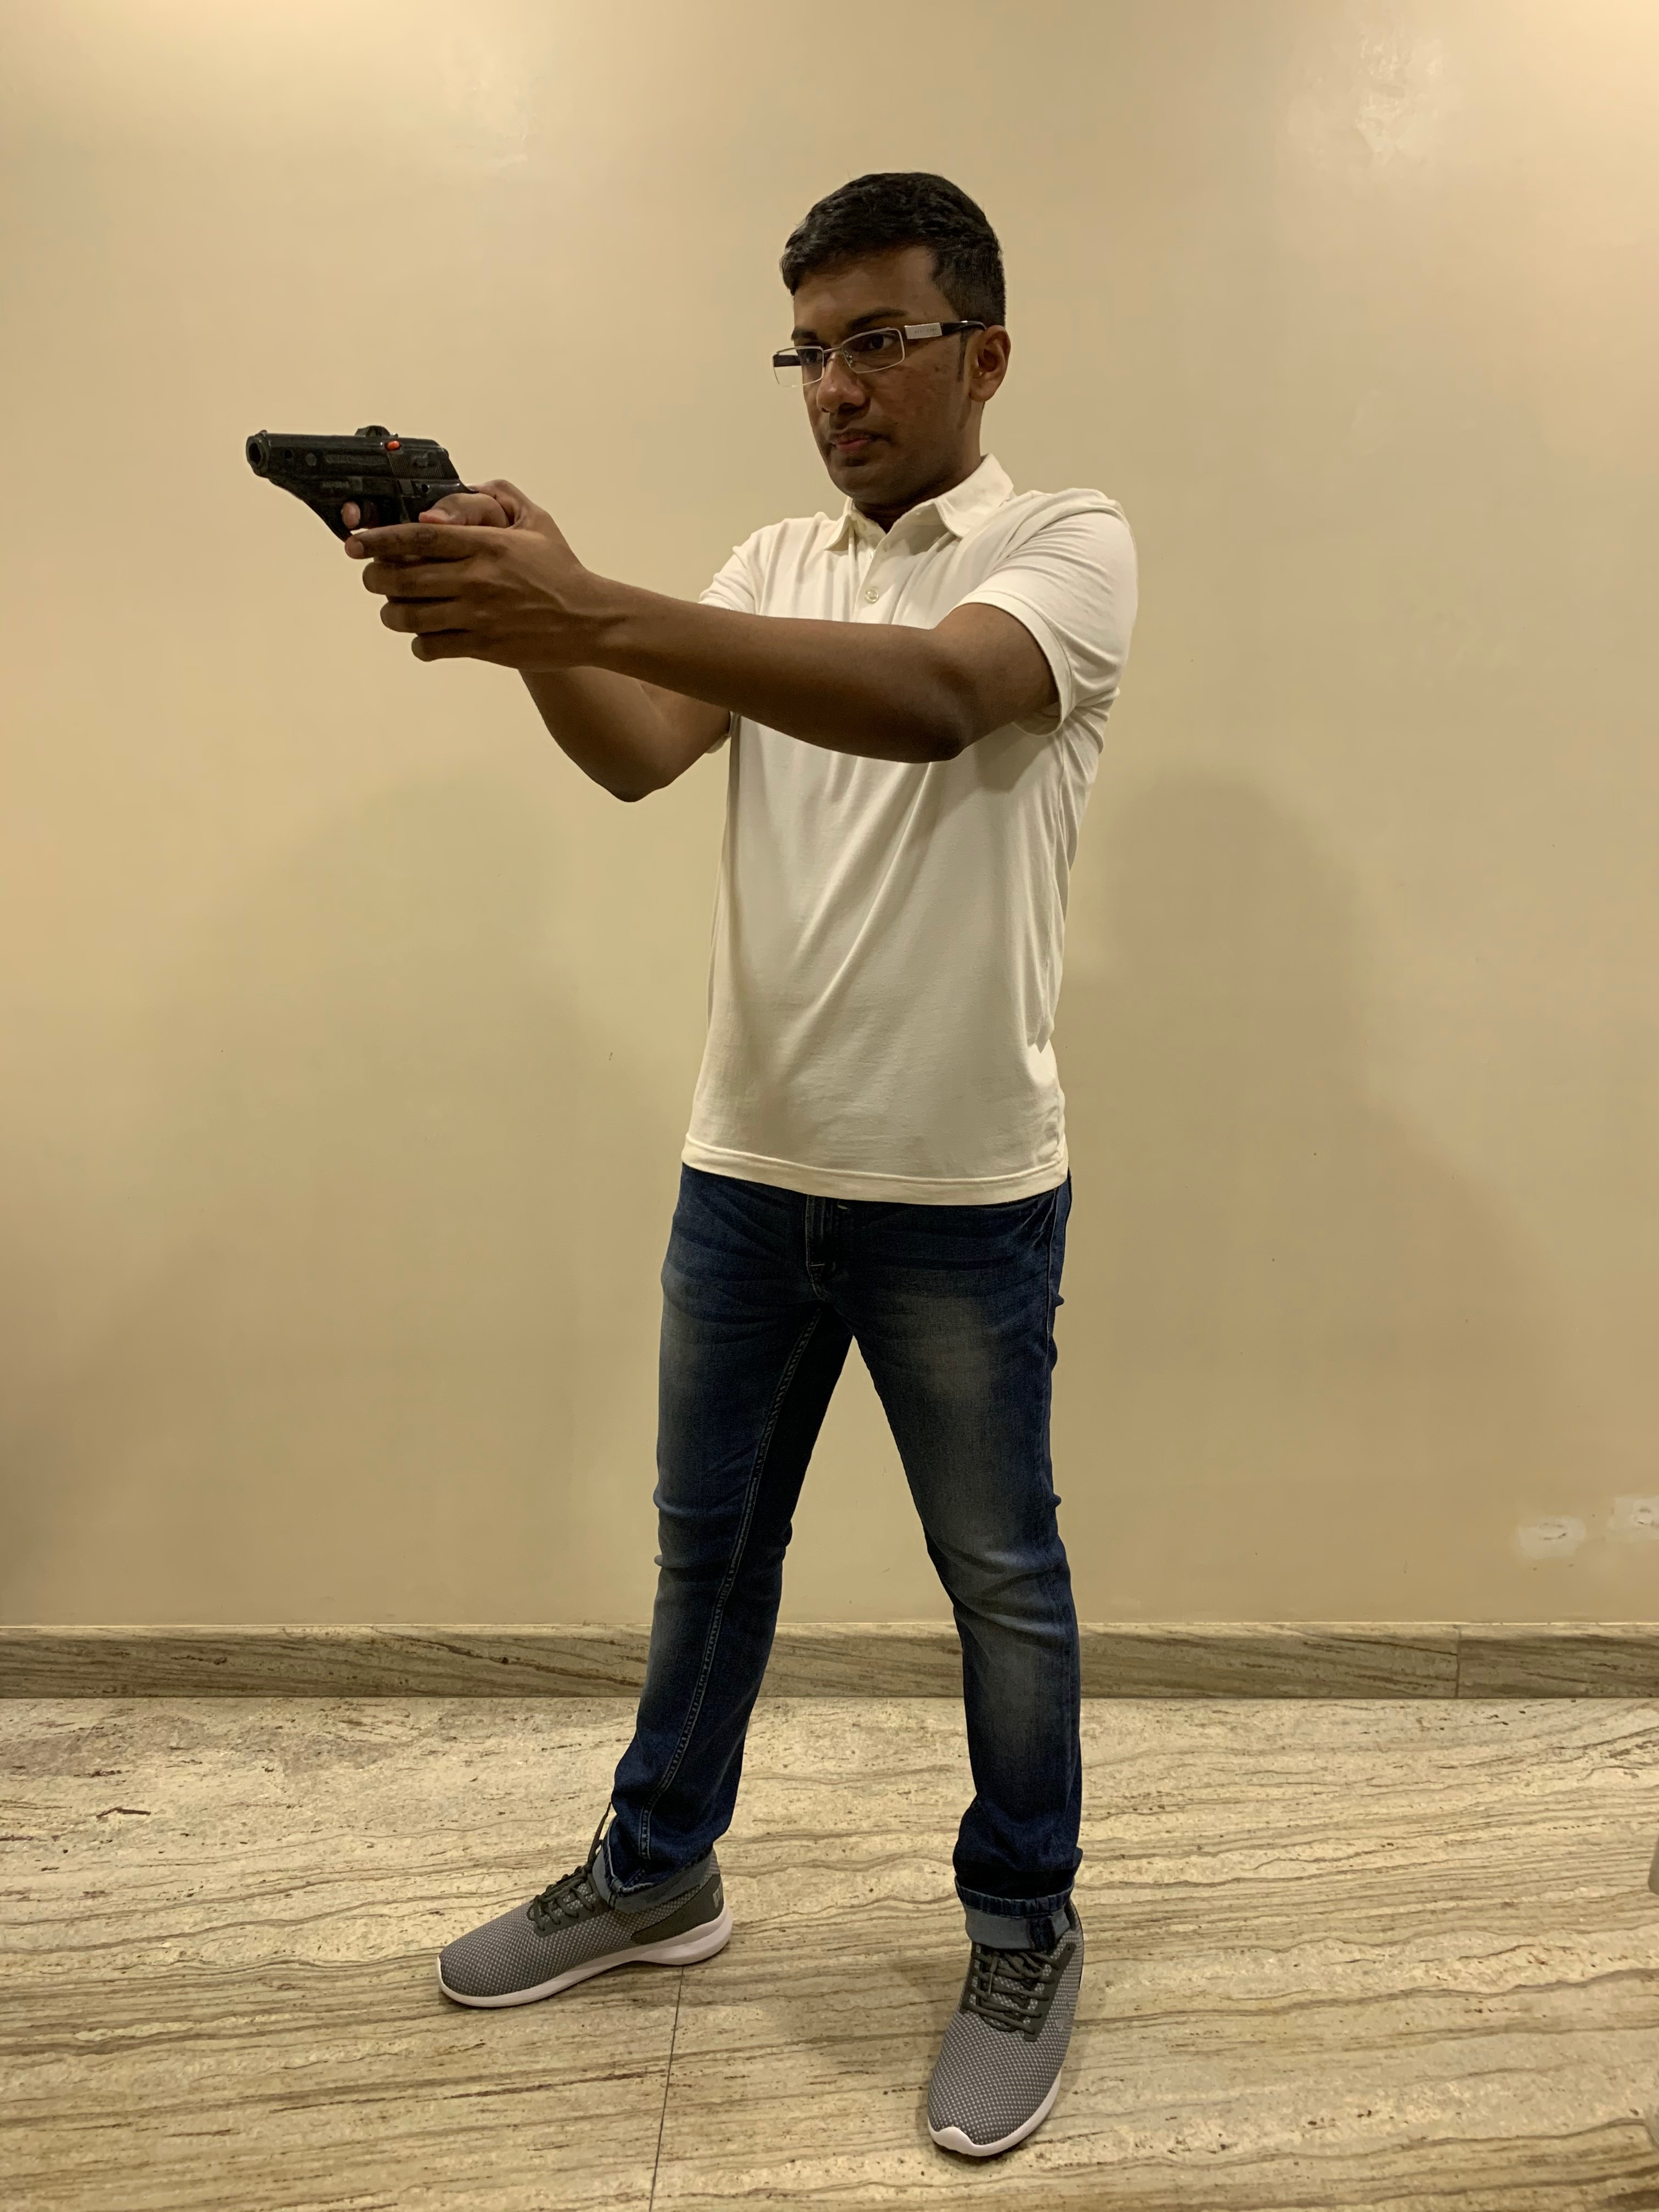gun: (239, 420, 488, 582)
